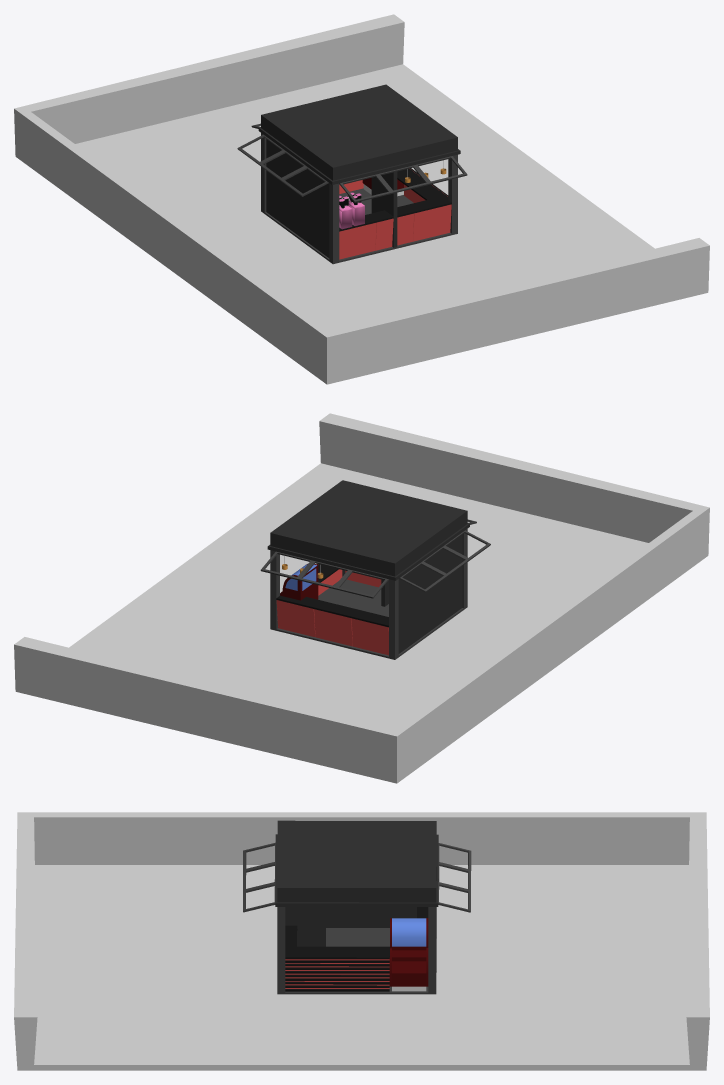
The model's file is Cafeteria.glb.
3 views of the same model, one above another, from view 1: azimuth 30°, elevation 25°; view 2: azimuth 150°, elevation 25°; view 3: azimuth 270°, elevation 25° (orthographic). The views are drawn at different scales.
Visible parts, largest first — view 1: Cube, Cafeteria; view 2: Cube, Cafeteria; view 3: Cube, Cafeteria.
Boxes of the visible parts, left/top/right/bottom form: Cube: left=14, top=14, right=709, bottom=384; Cafeteria: left=237, top=84, right=467, bottom=264; Cube: left=14, top=413, right=709, bottom=783; Cafeteria: left=260, top=480, right=490, bottom=659; Cube: left=14, top=812, right=709, bottom=1070; Cafeteria: left=243, top=820, right=471, bottom=994.
Bounding box in the file's own units: 0.3088 × 0.0783 × 0.4429.
